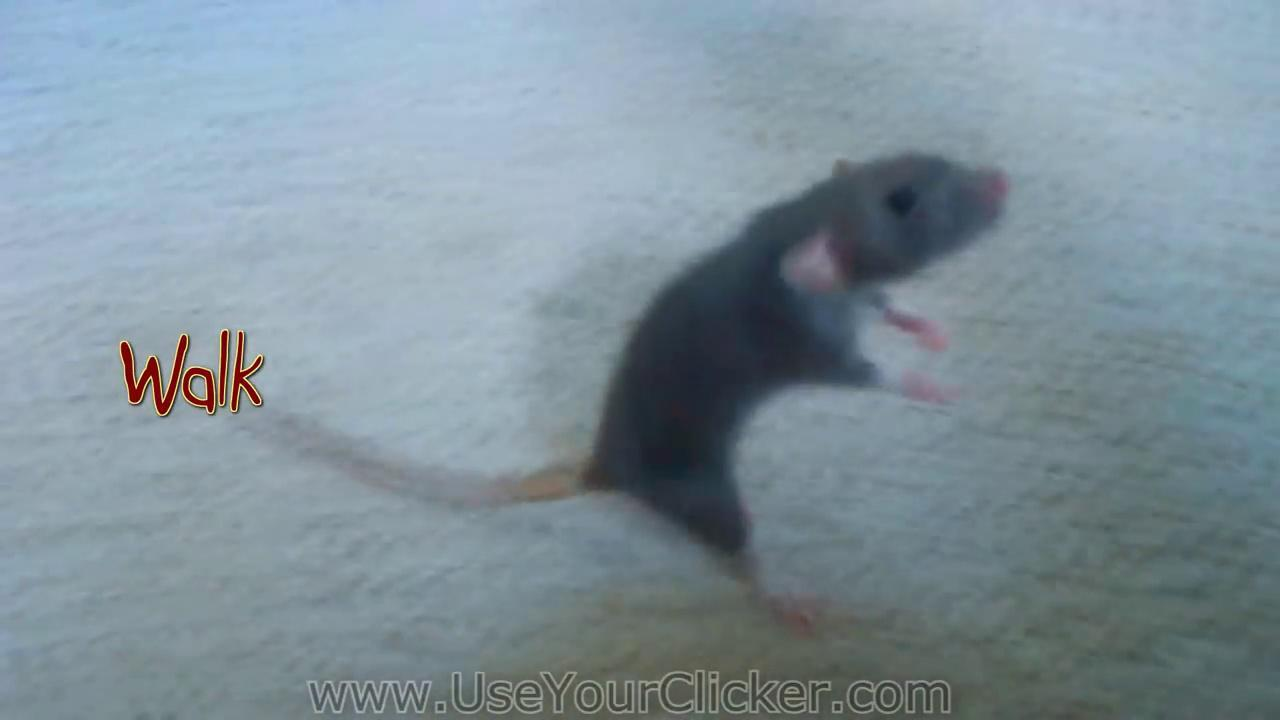rat: (299, 151, 1007, 596)
